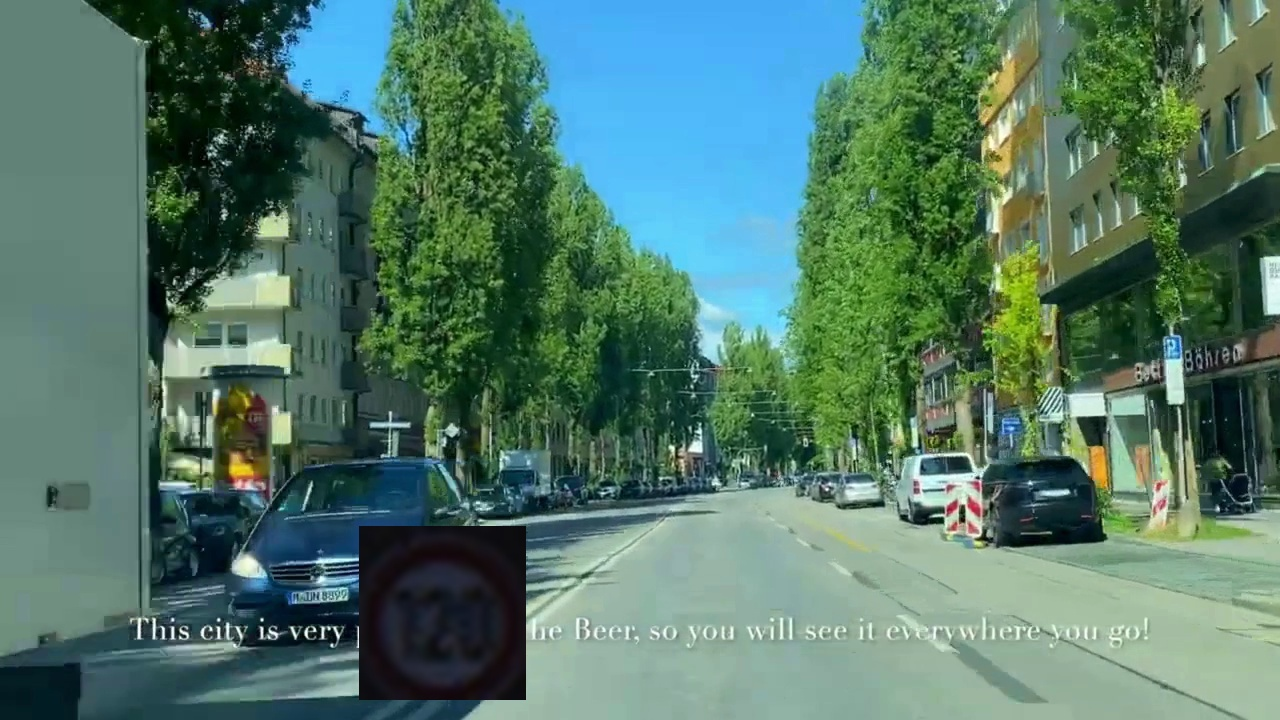Speed 120: (359, 526, 526, 700)
